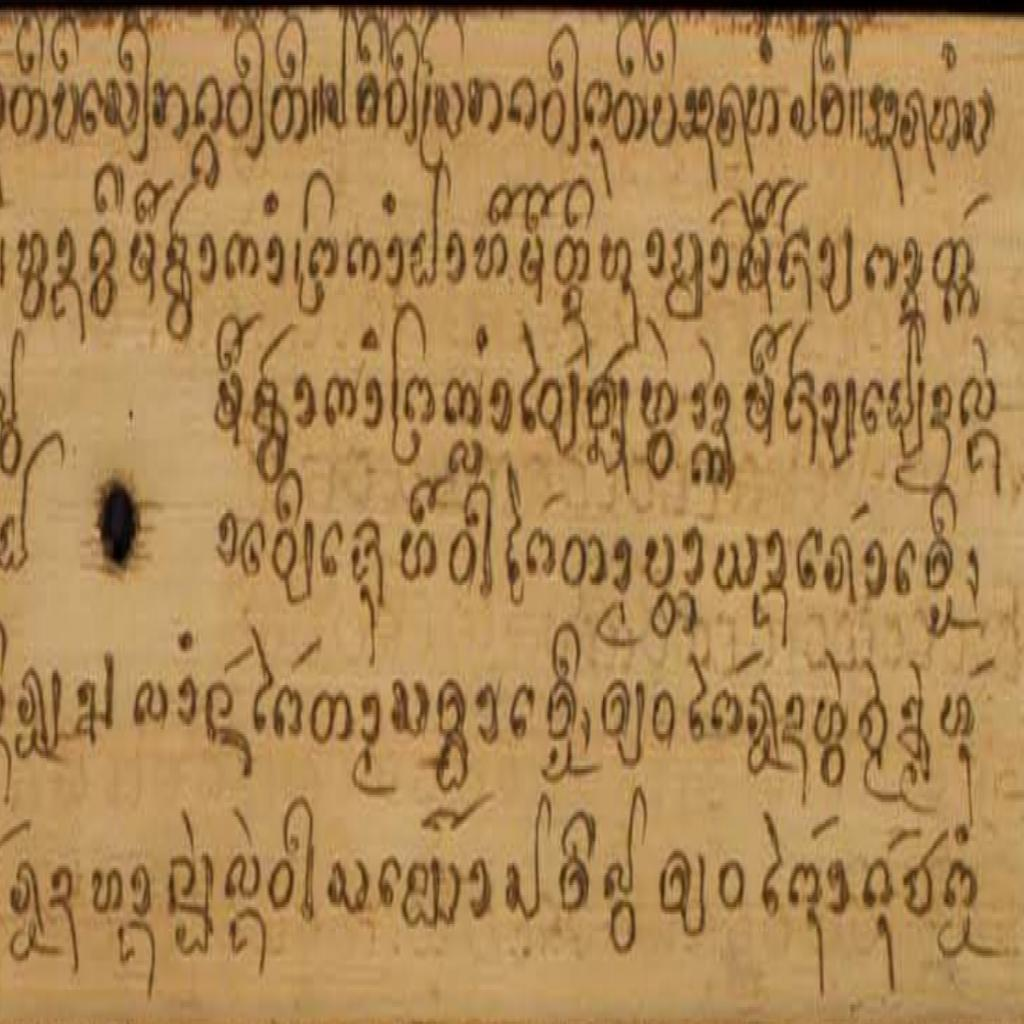LN004: (403, 849, 465, 939)
LN019: (308, 684, 356, 753)
LN034: (223, 850, 264, 906)
LN039: (90, 862, 126, 920)
